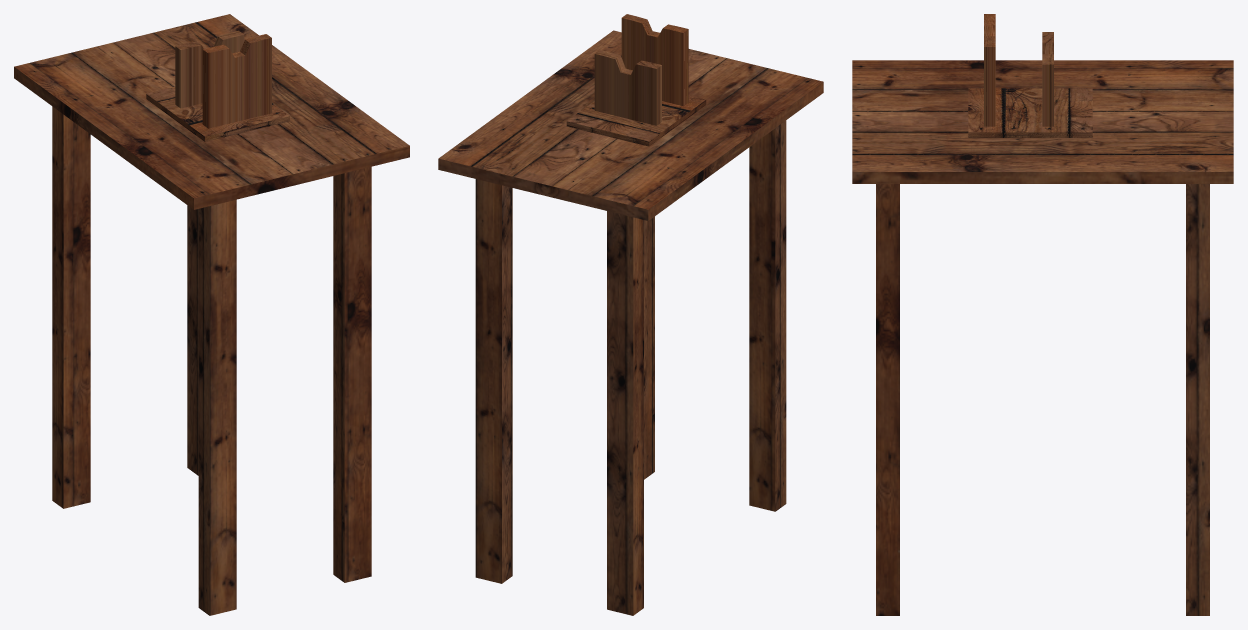
Rendered from Gunstand.fbx.
The picture shows the model from 3 angles, left to right: view 1: azimuth 30°, elevation 25°; view 2: azimuth 150°, elevation 25°; view 3: azimuth 270°, elevation 25°; orthographic projection. The views are drawn at different scales.
Parts seen in each view (by area): view 1: Table, Stand; view 2: Table, Stand; view 3: Table, Stand.
Boxes of the visible parts, x1,y1,x2,y2 form: Table: [14, 14, 409, 615]; Stand: [146, 30, 289, 141]; Table: [438, 30, 823, 615]; Stand: [566, 14, 706, 146]; Table: [852, 60, 1233, 615]; Stand: [968, 14, 1092, 137].
Bounding box in the file's own units: 85.71 × 195 × 124.
2 materials, 2 textured.
